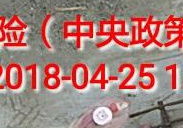text: (84, 100, 124, 128)
